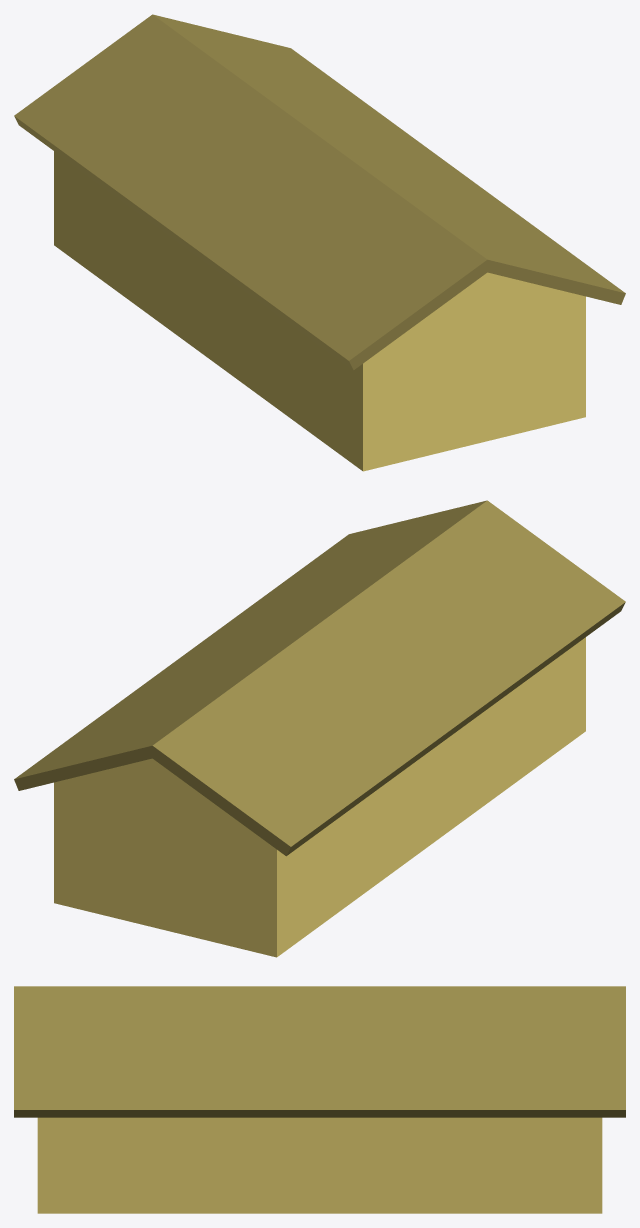
The model's file is result.glb.
The picture shows the model from 3 angles, top to bottom: view 1: azimuth 30°, elevation 25°; view 2: azimuth 150°, elevation 25°; view 3: azimuth 270°, elevation 25°; orthographic projection. The views are drawn at different scales.
Parts seen in each view (by area): view 1: e5a58652-b911-483a-8c96-1e4c081fdf56__undefined (×2), 1e79a27d-288d-4aa7-883e-59eebd9e799f__undefined; view 2: e5a58652-b911-483a-8c96-1e4c081fdf56__undefined (×2), 1e79a27d-288d-4aa7-883e-59eebd9e799f__undefined; view 3: e5a58652-b911-483a-8c96-1e4c081fdf56__undefined, 1e79a27d-288d-4aa7-883e-59eebd9e799f__undefined.
Boxes of the visible parts, left/top/right/bottom form: e5a58652-b911-483a-8c96-1e4c081fdf56__undefined (×2): left=14, top=14, right=625, bottom=370; 1e79a27d-288d-4aa7-883e-59eebd9e799f__undefined: left=54, top=151, right=585, bottom=471; e5a58652-b911-483a-8c96-1e4c081fdf56__undefined (×2): left=14, top=500, right=625, bottom=856; 1e79a27d-288d-4aa7-883e-59eebd9e799f__undefined: left=54, top=637, right=585, bottom=957; e5a58652-b911-483a-8c96-1e4c081fdf56__undefined: left=14, top=986, right=625, bottom=1117; 1e79a27d-288d-4aa7-883e-59eebd9e799f__undefined: left=37, top=1117, right=602, bottom=1213.
Size of the model in its own units: 621 by 416 by 1301.
